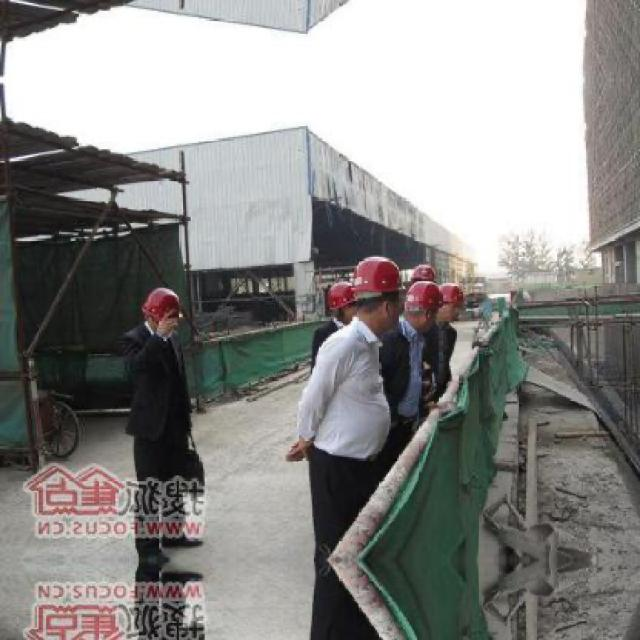con casco: (336, 247, 411, 346), (138, 276, 205, 340), (396, 274, 470, 325)
